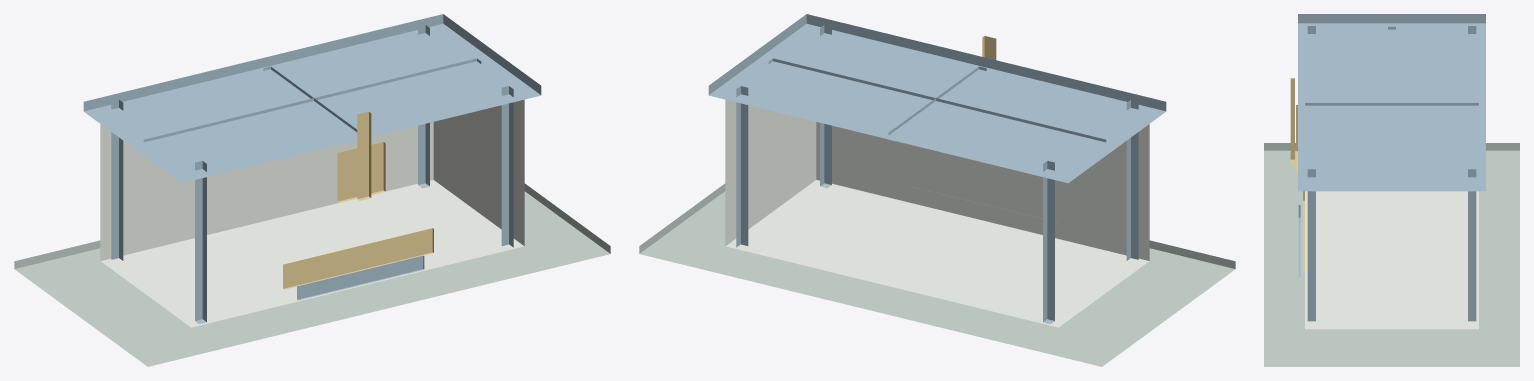
File: clinic.glb
3 renders of one model, left to right at view 1: azimuth 30°, elevation 25°; view 2: azimuth 150°, elevation 25°; view 3: azimuth 270°, elevation 25°, orthographic. The views are drawn at different scales.
Parts seen in each view (by area): view 1: Walls, Roof, Foundation, Details, Frame; view 2: Walls, Roof, Foundation, Frame; view 3: Roof, Foundation, Walls, Frame, Details.
Part boxes in pixels (left/top/right/bottom): Walls: left=100, top=99, right=524, bottom=327; Roof: left=83, top=14, right=541, bottom=183; Foundation: left=14, top=183, right=610, bottom=366; Details: left=283, top=111, right=433, bottom=300; Frame: left=111, top=25, right=513, bottom=323; Walls: left=725, top=99, right=1149, bottom=327; Roof: left=708, top=14, right=1166, bottom=183; Foundation: left=639, top=183, right=1235, bottom=366; Frame: left=736, top=25, right=1138, bottom=323; Roof: left=1298, top=14, right=1485, bottom=191; Foundation: left=1264, top=143, right=1519, bottom=366; Walls: left=1305, top=191, right=1478, bottom=329; Frame: left=1305, top=26, right=1478, bottom=321; Details: left=1290, top=78, right=1304, bottom=276.
Bounding box in the file's own units: 40 × 15.33 × 20.
